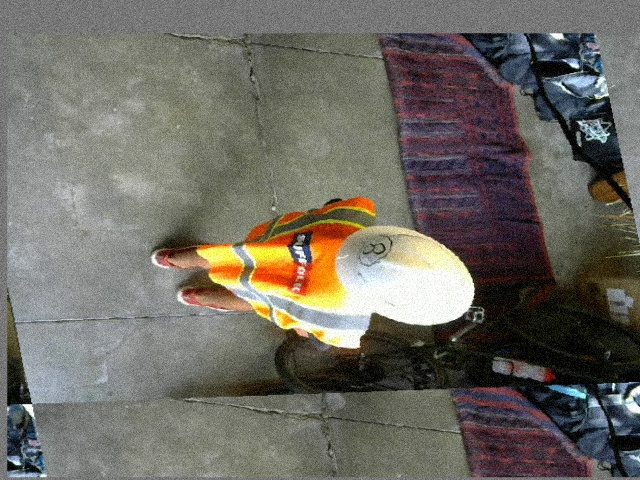eight: (352, 233, 396, 265)
